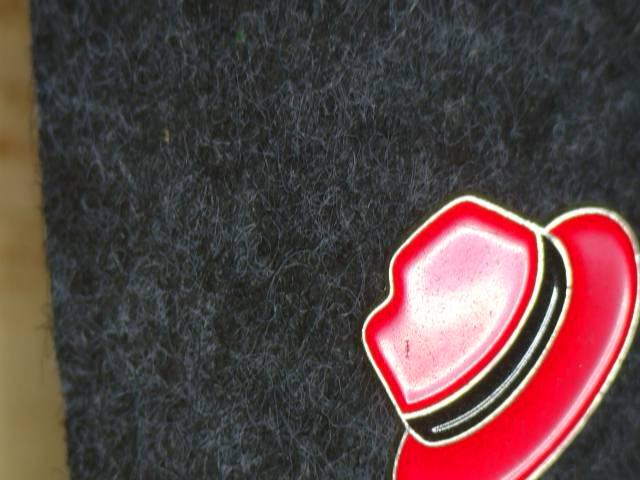Red-Hat: (317, 154, 640, 480)
